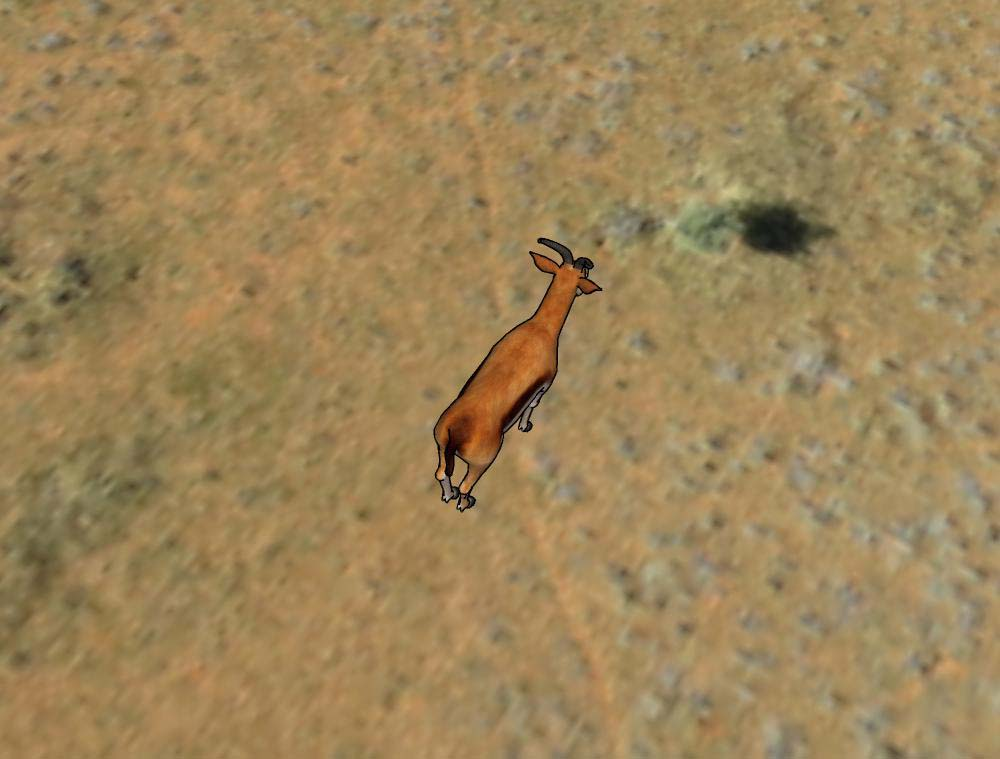springbok: (418, 238, 605, 513)
